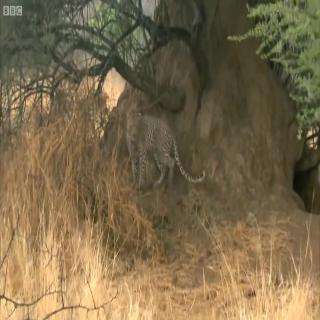Leopard: (104, 83, 201, 161)
